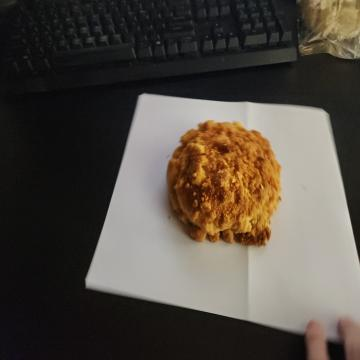soboru_bread: (166, 122, 284, 248)
